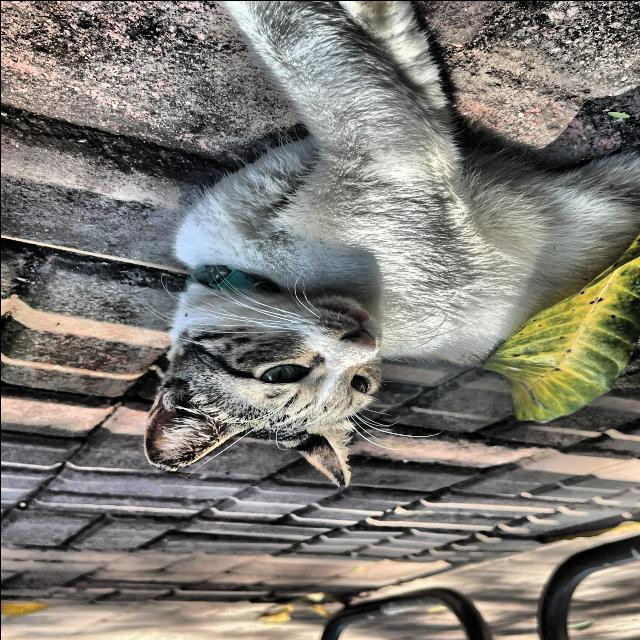Healthy skin: (214, 172, 384, 252), (150, 351, 256, 458)
